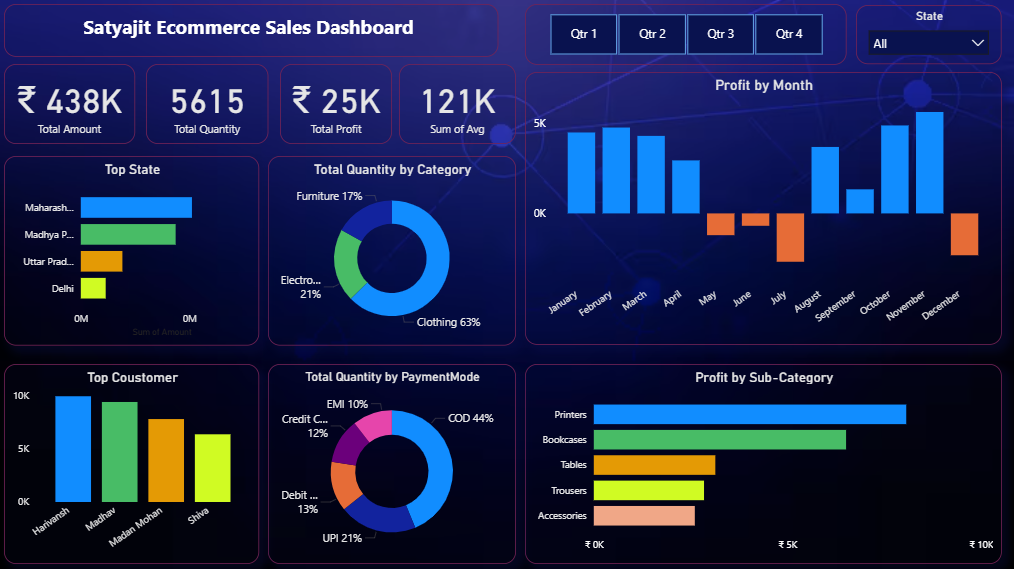

This screenshot's page, from the dashboard's own definition file:
{"tool":"powerbi","page":{"name":"Page 1","canvas":[1280,720],"ordinal":0},"visuals":[{"type":"textbox","box":[9.6,9.6,618,66.1],"z":0},{"type":"columnChart","title":"Profit by Month","fields":{"Category":["Orders.Order Date.Variation.Date Hierarchy.Month"],"Y":["Sum(Details.Profit)"]},"box":[661.1,95,595.5,341.3],"z":1000},{"type":"clusteredBarChart","title":"Profit by Sub-Category","fields":{"Category":["Details.Sub-Category"],"Y":["Details.Total Profit"]},"box":[660.6,459.7,596,250.5],"z":2000},{"type":"donutChart","fields":{"Category":["Details.Category"],"Y":["Details.Total Quantity"]},"box":[340,199.6,309.7,236.7],"z":3000},{"type":"donutChart","fields":{"Category":["Details.PaymentMode"],"Y":["Details.Total Quantity"]},"box":[340,459.7,309.7,250.5],"z":4000},{"type":"clusteredColumnChart","title":"Top Coustomer","fields":{"Category":["Orders.CustomerName"],"Y":["Sum(Details.Amount)"]},"box":[9.6,459.7,319.3,250.5],"z":5000},{"type":"card","fields":{"Values":["Details.Total Amount"]},"box":[9.6,85.3,163.8,100.5],"z":6000},{"type":"card","fields":{"Values":["Details.Total Quantity"]},"box":[187.2,85.3,152.8,100.5],"z":7000},{"type":"card","fields":{"Values":["Details.Total Profit"]},"box":[355.1,85.3,140.4,100.5],"z":8000},{"type":"card","fields":{"Values":["Sum(Details.Avg)"]},"box":[503.7,85.3,145.9,100.5],"z":9000},{"type":"clusteredBarChart","title":"Top State","fields":{"Category":["Orders.State"],"Y":["Sum(Details.Amount)"]},"box":[9.6,199.6,319.3,236.7],"z":10000},{"type":"slicer","fields":{"Values":["Orders.Order Date.Variation.Date Hierarchy.Quarter"]},"box":[660.6,9.6,401.9,75.7],"z":11000},{"type":"slicer","title":"State","fields":{"Values":["Orders.State"]},"box":[1074.9,11,181.7,74.3],"z":12000}]}

Visuals, with their boxes in screenshot pixels (x1, y1, x2, y2), scaled from the page's 1280x720 canvas onto the 1014x569 screenshot:
textbox: bbox=[8, 8, 497, 60]
"Profit by Month" columnChart: bbox=[524, 75, 995, 345]
"Profit by Sub-Category" clusteredBarChart: bbox=[523, 363, 995, 561]
donutChart - Details.Category x Details.Total Quantity: bbox=[269, 158, 515, 345]
donutChart - Details.PaymentMode x Details.Total Quantity: bbox=[269, 363, 515, 561]
"Top Coustomer" clusteredColumnChart: bbox=[8, 363, 261, 561]
card - Details.Total Amount: bbox=[8, 67, 137, 147]
card - Details.Total Quantity: bbox=[148, 67, 269, 147]
card - Details.Total Profit: bbox=[281, 67, 393, 147]
card - Sum(Details.Avg): bbox=[399, 67, 515, 147]
"Top State" clusteredBarChart: bbox=[8, 158, 261, 345]
slicer - Orders.Order Date.Variation.Date Hierarchy.Quarter: bbox=[523, 8, 842, 67]
"State" slicer: bbox=[852, 9, 995, 67]
